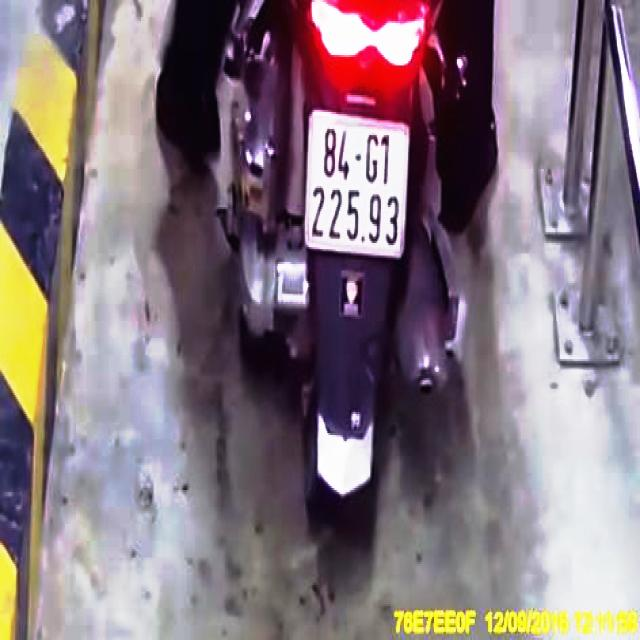license_plate: (307, 117, 411, 254)
